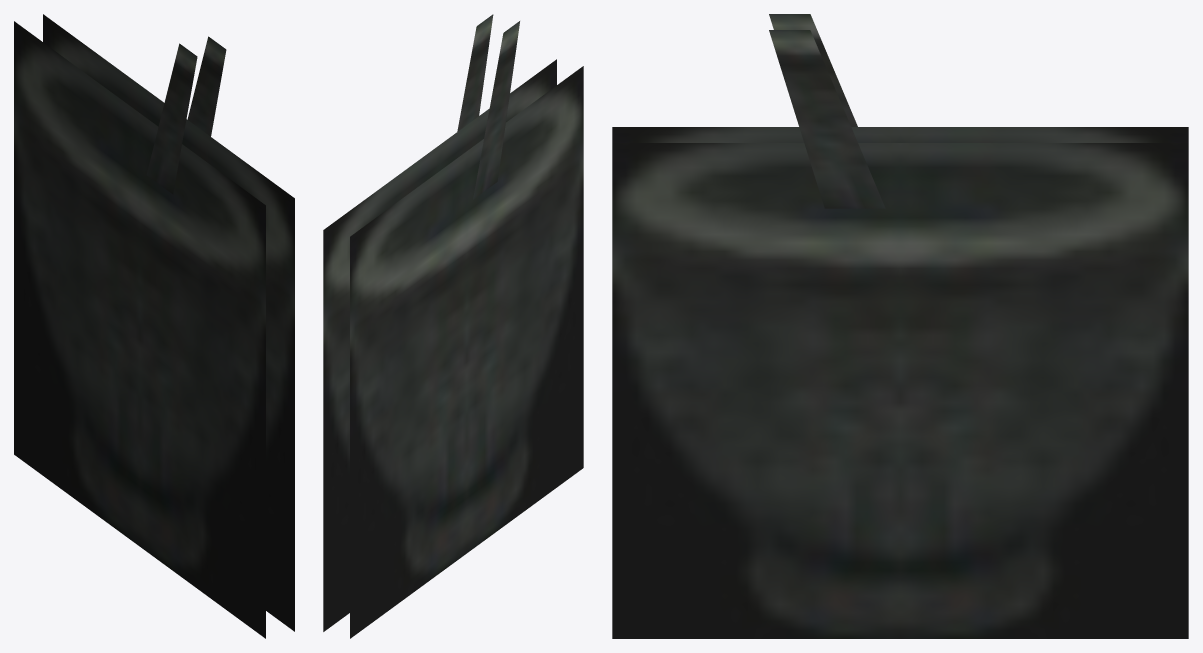
The model's file is sign1_spanish_b_icon_chemist.fbx.
3 renders of one model, left to right at view 1: azimuth 30°, elevation 25°; view 2: azimuth 150°, elevation 25°; view 3: azimuth 270°, elevation 25°, orthographic. The views are drawn at different scales.
Visible parts, largest first — view 1: mortor, pestle; view 2: mortor, pestle; view 3: mortor, pestle.
Part boxes in pixels (left/top/right/bottom): mortor: left=14, top=14, right=294, bottom=638; pestle: left=146, top=36, right=226, bottom=194; mortor: left=323, top=59, right=583, bottom=638; pestle: left=457, top=14, right=519, bottom=199; mortor: left=612, top=127, right=1188, bottom=638; pestle: left=769, top=14, right=885, bottom=208.
Size of the model in its own units: 16.67 by 293 by 251.
Materials: 1 (1 with a texture image).
